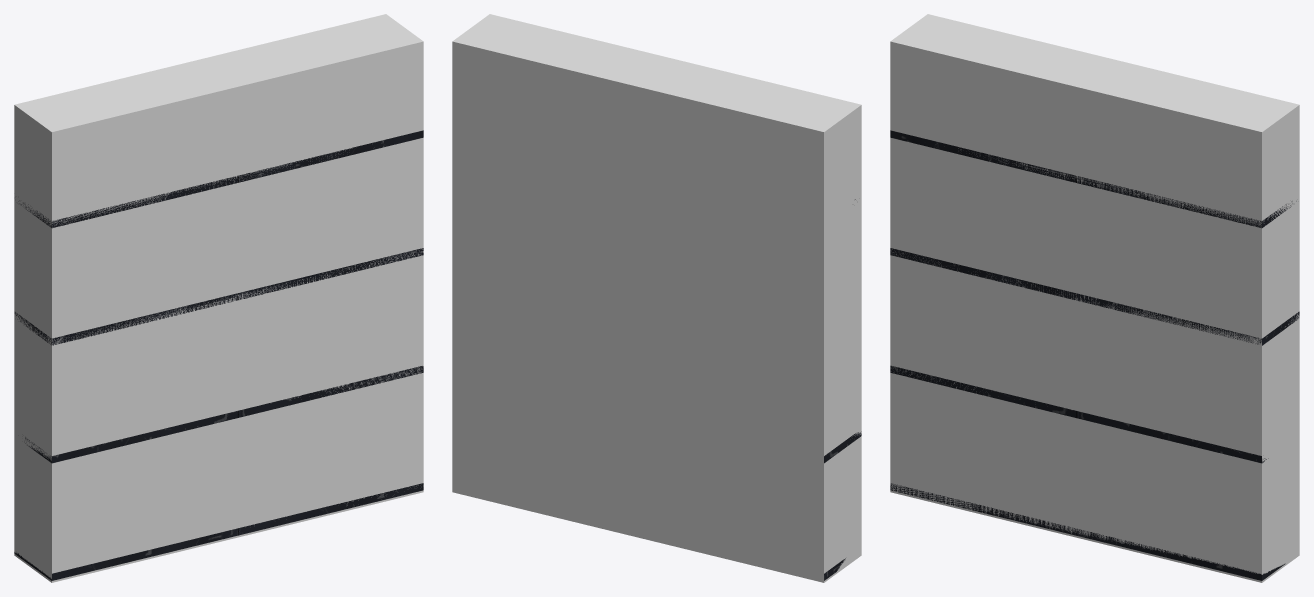
Rendered from Furn_Bookshelf.001.gltf.
3 views of the same model, side by side, from view 1: azimuth 30°, elevation 25°; view 2: azimuth 150°, elevation 25°; view 3: azimuth 330°, elevation 25° (orthographic).
Parts seen in each view (by area): view 1: Furn_Bookshelf.001_COL, Furn_Bookshelf.001; view 2: Furn_Bookshelf.001_COL; view 3: Furn_Bookshelf.001_COL, Furn_Bookshelf.001.
Part boxes in pixels (x1,y1,x2,y2): Furn_Bookshelf.001_COL: [14, 14, 423, 582]; Furn_Bookshelf.001: [14, 130, 423, 580]; Furn_Bookshelf.001_COL: [452, 14, 861, 582]; Furn_Bookshelf.001_COL: [890, 14, 1299, 582]; Furn_Bookshelf.001: [890, 130, 1299, 580].
Size of the model in its own units: 1.6 by 1.85 by 0.28.
Materials: 13 (1 with a texture image).
